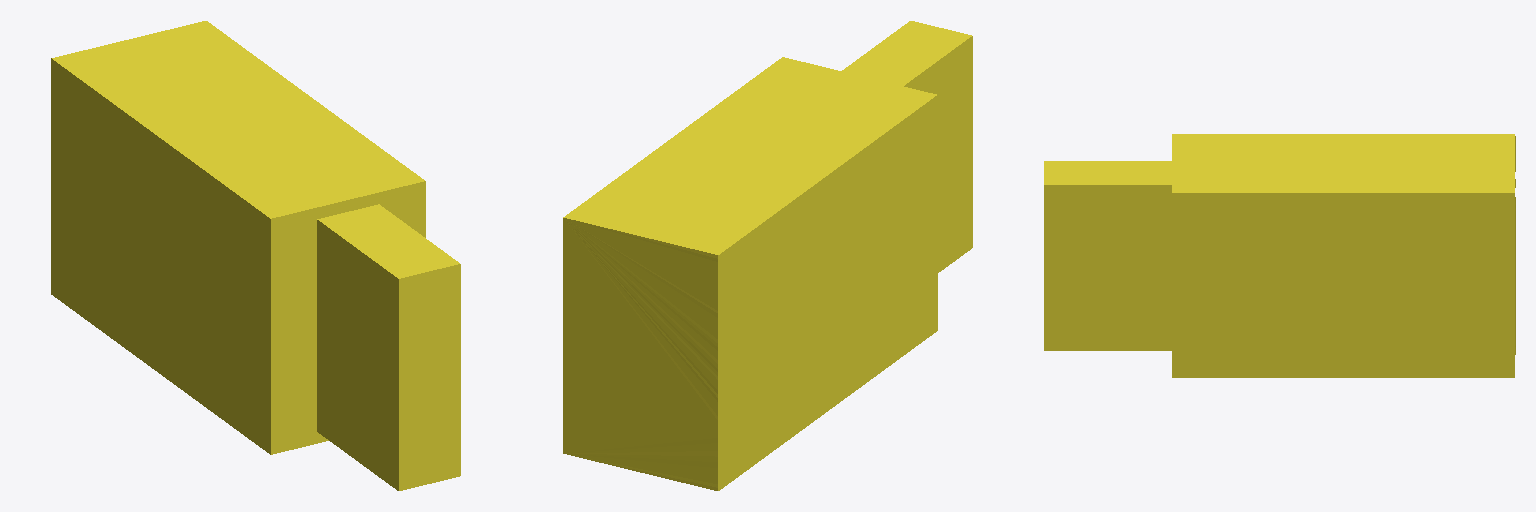
robot.urdf — 2v2_2.1_1.1_1.1_9.10:
<?xml version="1.0" ?>
<robot name="2v2_2.1_1.1_1.1_9.10">

    <link name="palm">
        <visual>
            <origin rpy="0 0 0" xyz="0 0 0"/>
            <geometry>
                <mesh filename="obj_files/palm.obj" scale="1 1 1"/>
            </geometry>
        </visual>
        <collision>
            <geometry>
                <mesh filename="obj_files/palm_collision.obj" scale="1 1 1"/>
            </geometry>
        </collision>
    </link>

    <link name="finger0_segment0">
        <visual>
            <origin rpy="0 0 0" xyz="0 0 0"/>
            <geometry>
                <mesh filename="obj_files/finger0_segment0.obj" scale="1 1 1"/>
            </geometry>
        </visual>
        <collision>
            <geometry>
                <mesh filename="obj_files/finger0_segment0_collision.obj" scale="1 1 1"/>
            </geometry>
        </collision>
    </link>

    <joint name="finger0_segment0_joint" type="revolute">
        <parent link="palm"/>
        <child link="finger0_segment0"/>
        <origin rpy="0 0 0" xyz="0.02675 0 0.0"/>
        <axis xyz="0 0 1"/>
        <limit effort="1000.0" lower="-3.14" upper="3.14" velocity="0.5"/>
    </joint>

    <link name="finger0_segment1">
        <visual>
            <origin rpy="0 0 0" xyz="0 0 0"/>
            <geometry>
                <mesh filename="obj_files/finger0_segment1.obj" scale="1 1 1"/>
            </geometry>
        </visual>
        <collision>
            <geometry>
                <mesh filename="obj_files/finger0_segment1_collision.obj" scale="1 1 1"/>
            </geometry>
        </collision>
    </link>

    <joint name="finger0_segment1_joint" type="revolute">
        <parent link="finger0_segment0"/>
        <child link="finger0_segment1"/>
        <origin rpy="0 0 0" xyz="0 0.04987499999999999 0"/>
        <axis xyz="0 0 1"/>
        <limit effort="1000.0" lower="-3.14" upper="3.14" velocity="0.5"/>
    </joint>

    <link name="finger1_segment0">
        <visual>
            <origin rpy="0 0 0" xyz="0 0 0"/>
            <geometry>
                <mesh filename="obj_files/finger1_segment0.obj" scale="1 1 1"/>
            </geometry>
        </visual>
        <collision>
            <geometry>
                <mesh filename="obj_files/finger1_segment0_collision.obj" scale="1 1 1"/>
            </geometry>
        </collision>
    </link>

    <joint name="finger1_segment0_joint" type="revolute">
        <parent link="palm"/>
        <child link="finger1_segment0"/>
        <origin rpy="0 0 0" xyz="-0.02675 0 3.27593018771917e-18"/>
        <axis xyz="0 0 1"/>
        <limit effort="1000.0" lower="-3.14" upper="3.14" velocity="0.5"/>
    </joint>

    <link name="finger1_segment1">
        <visual>
            <origin rpy="0 0 0" xyz="0 0 0"/>
            <geometry>
                <mesh filename="obj_files/finger1_segment1.obj" scale="1 1 1"/>
            </geometry>
        </visual>
        <collision>
            <geometry>
                <mesh filename="obj_files/finger1_segment1_collision.obj" scale="1 1 1"/>
            </geometry>
        </collision>
    </link>

    <joint name="finger1_segment1_joint" type="revolute">
        <parent link="finger1_segment0"/>
        <child link="finger1_segment1"/>
        <origin rpy="0 0 0" xyz="0 0.073875 0"/>
        <axis xyz="0 0 1"/>
        <limit effort="1000.0" lower="-3.14" upper="3.14" velocity="0.5"/>
    </joint>

</robot>

--- Facts derived from the render (not from the file) ---
The picture shows the robot from 3 angles, left to right: view 1: azimuth 30°, elevation 25°; view 2: azimuth 150°, elevation 25°; view 3: azimuth 270°, elevation 25°; orthographic projection.
Robot: 2v2_2.1_1.1_1.1_9.10 — 5 links, 4 joints (4 revolute); root link palm; default pose: all joints at 0.
Visible links, largest first — view 1: finger1_segment0; view 2: finger1_segment0; view 3: finger1_segment0.
Boxes of the visible links, x1,y1,x2,y2 form: finger1_segment0: (51, 21, 460, 490); finger1_segment0: (563, 21, 972, 490); finger1_segment0: (1044, 134, 1515, 377).
Size in the robot's own frame: 0.022 by 0.0739 by 0.032 metres.
Meshes: 5 distinct files referenced, 1 mesh visuals loaded (1 OBJ); not drawn: 4 (reference not matched to a file when rendering).